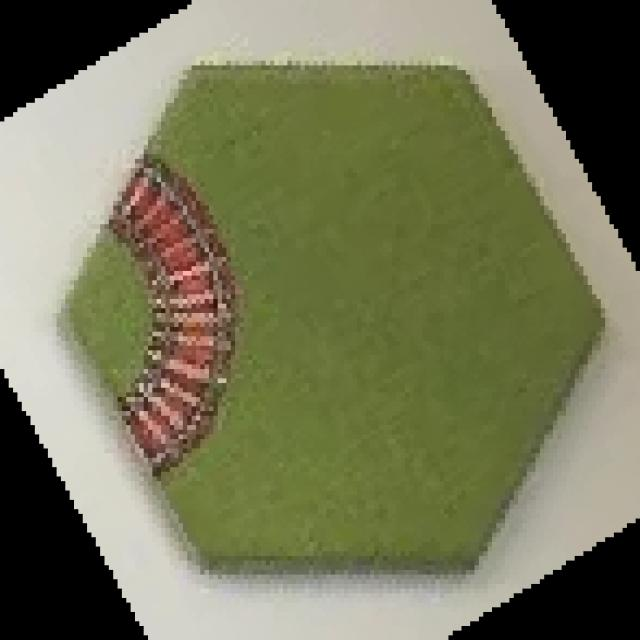1_5: (62, 59, 608, 578)
